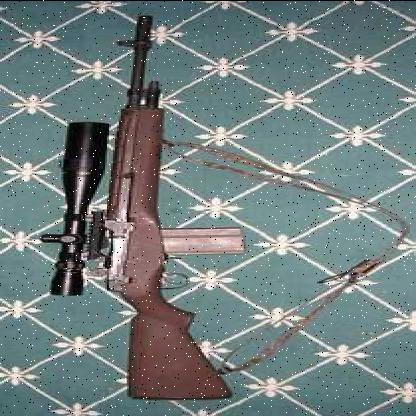rifle: (30, 5, 293, 398)
